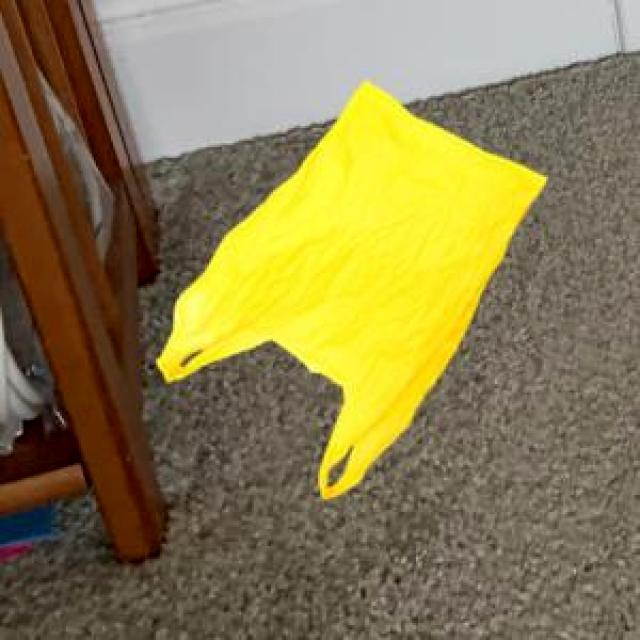Plastic_Bag: (154, 78, 544, 496)
